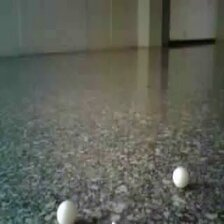w: (56, 199, 76, 224), (172, 167, 190, 188)
